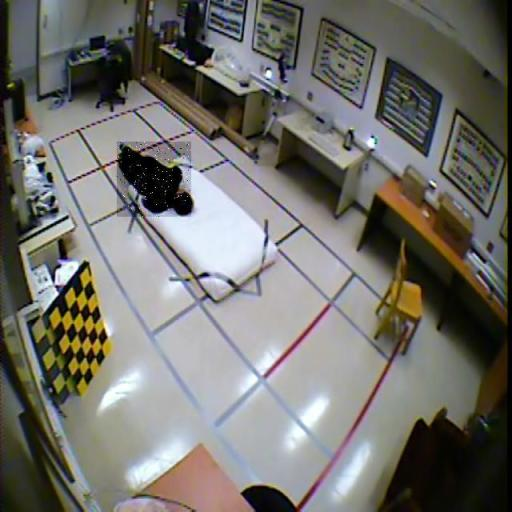Fall: (117, 142, 191, 217)
